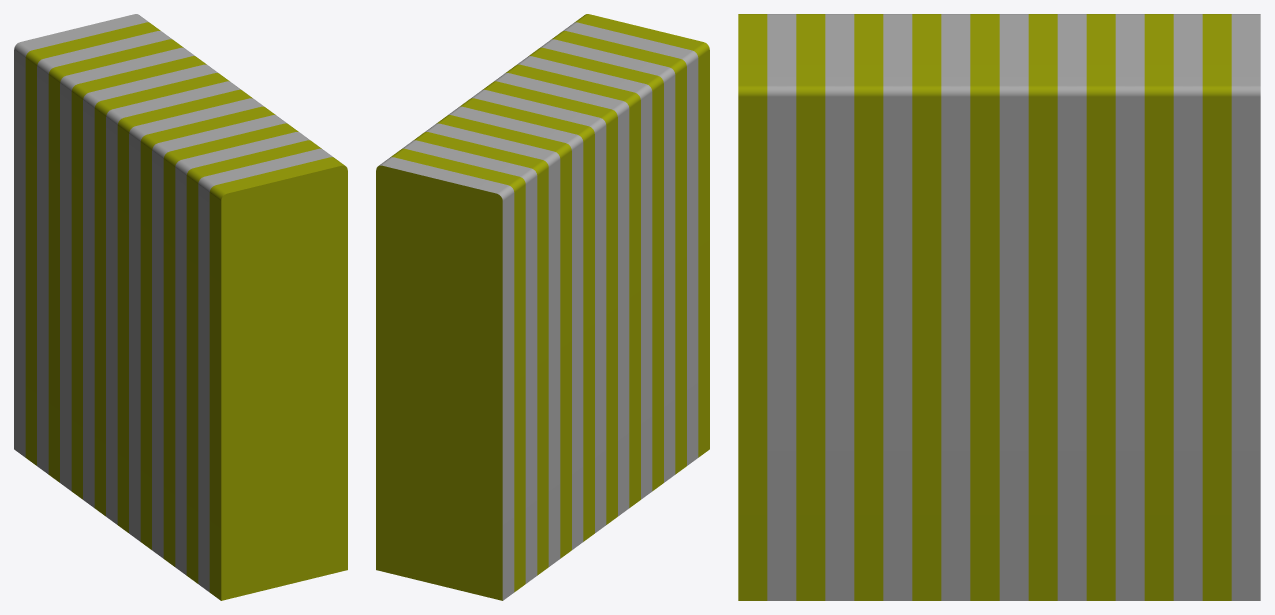
File: Platform.fbx
3 views of the same model, side by side, from view 1: azimuth 30°, elevation 25°; view 2: azimuth 150°, elevation 25°; view 3: azimuth 270°, elevation 25° (orthographic). The views are drawn at different scales.
Parts seen in each view (by area): view 1: Platform; view 2: Platform; view 3: Platform.
Part boxes in pixels (<box>): Platform: <box>14,14,347,600</box>; Platform: <box>376,14,709,600</box>; Platform: <box>738,14,1260,600</box>.
Bounding box in the file's own units: 707 × 2164 × 2001.
